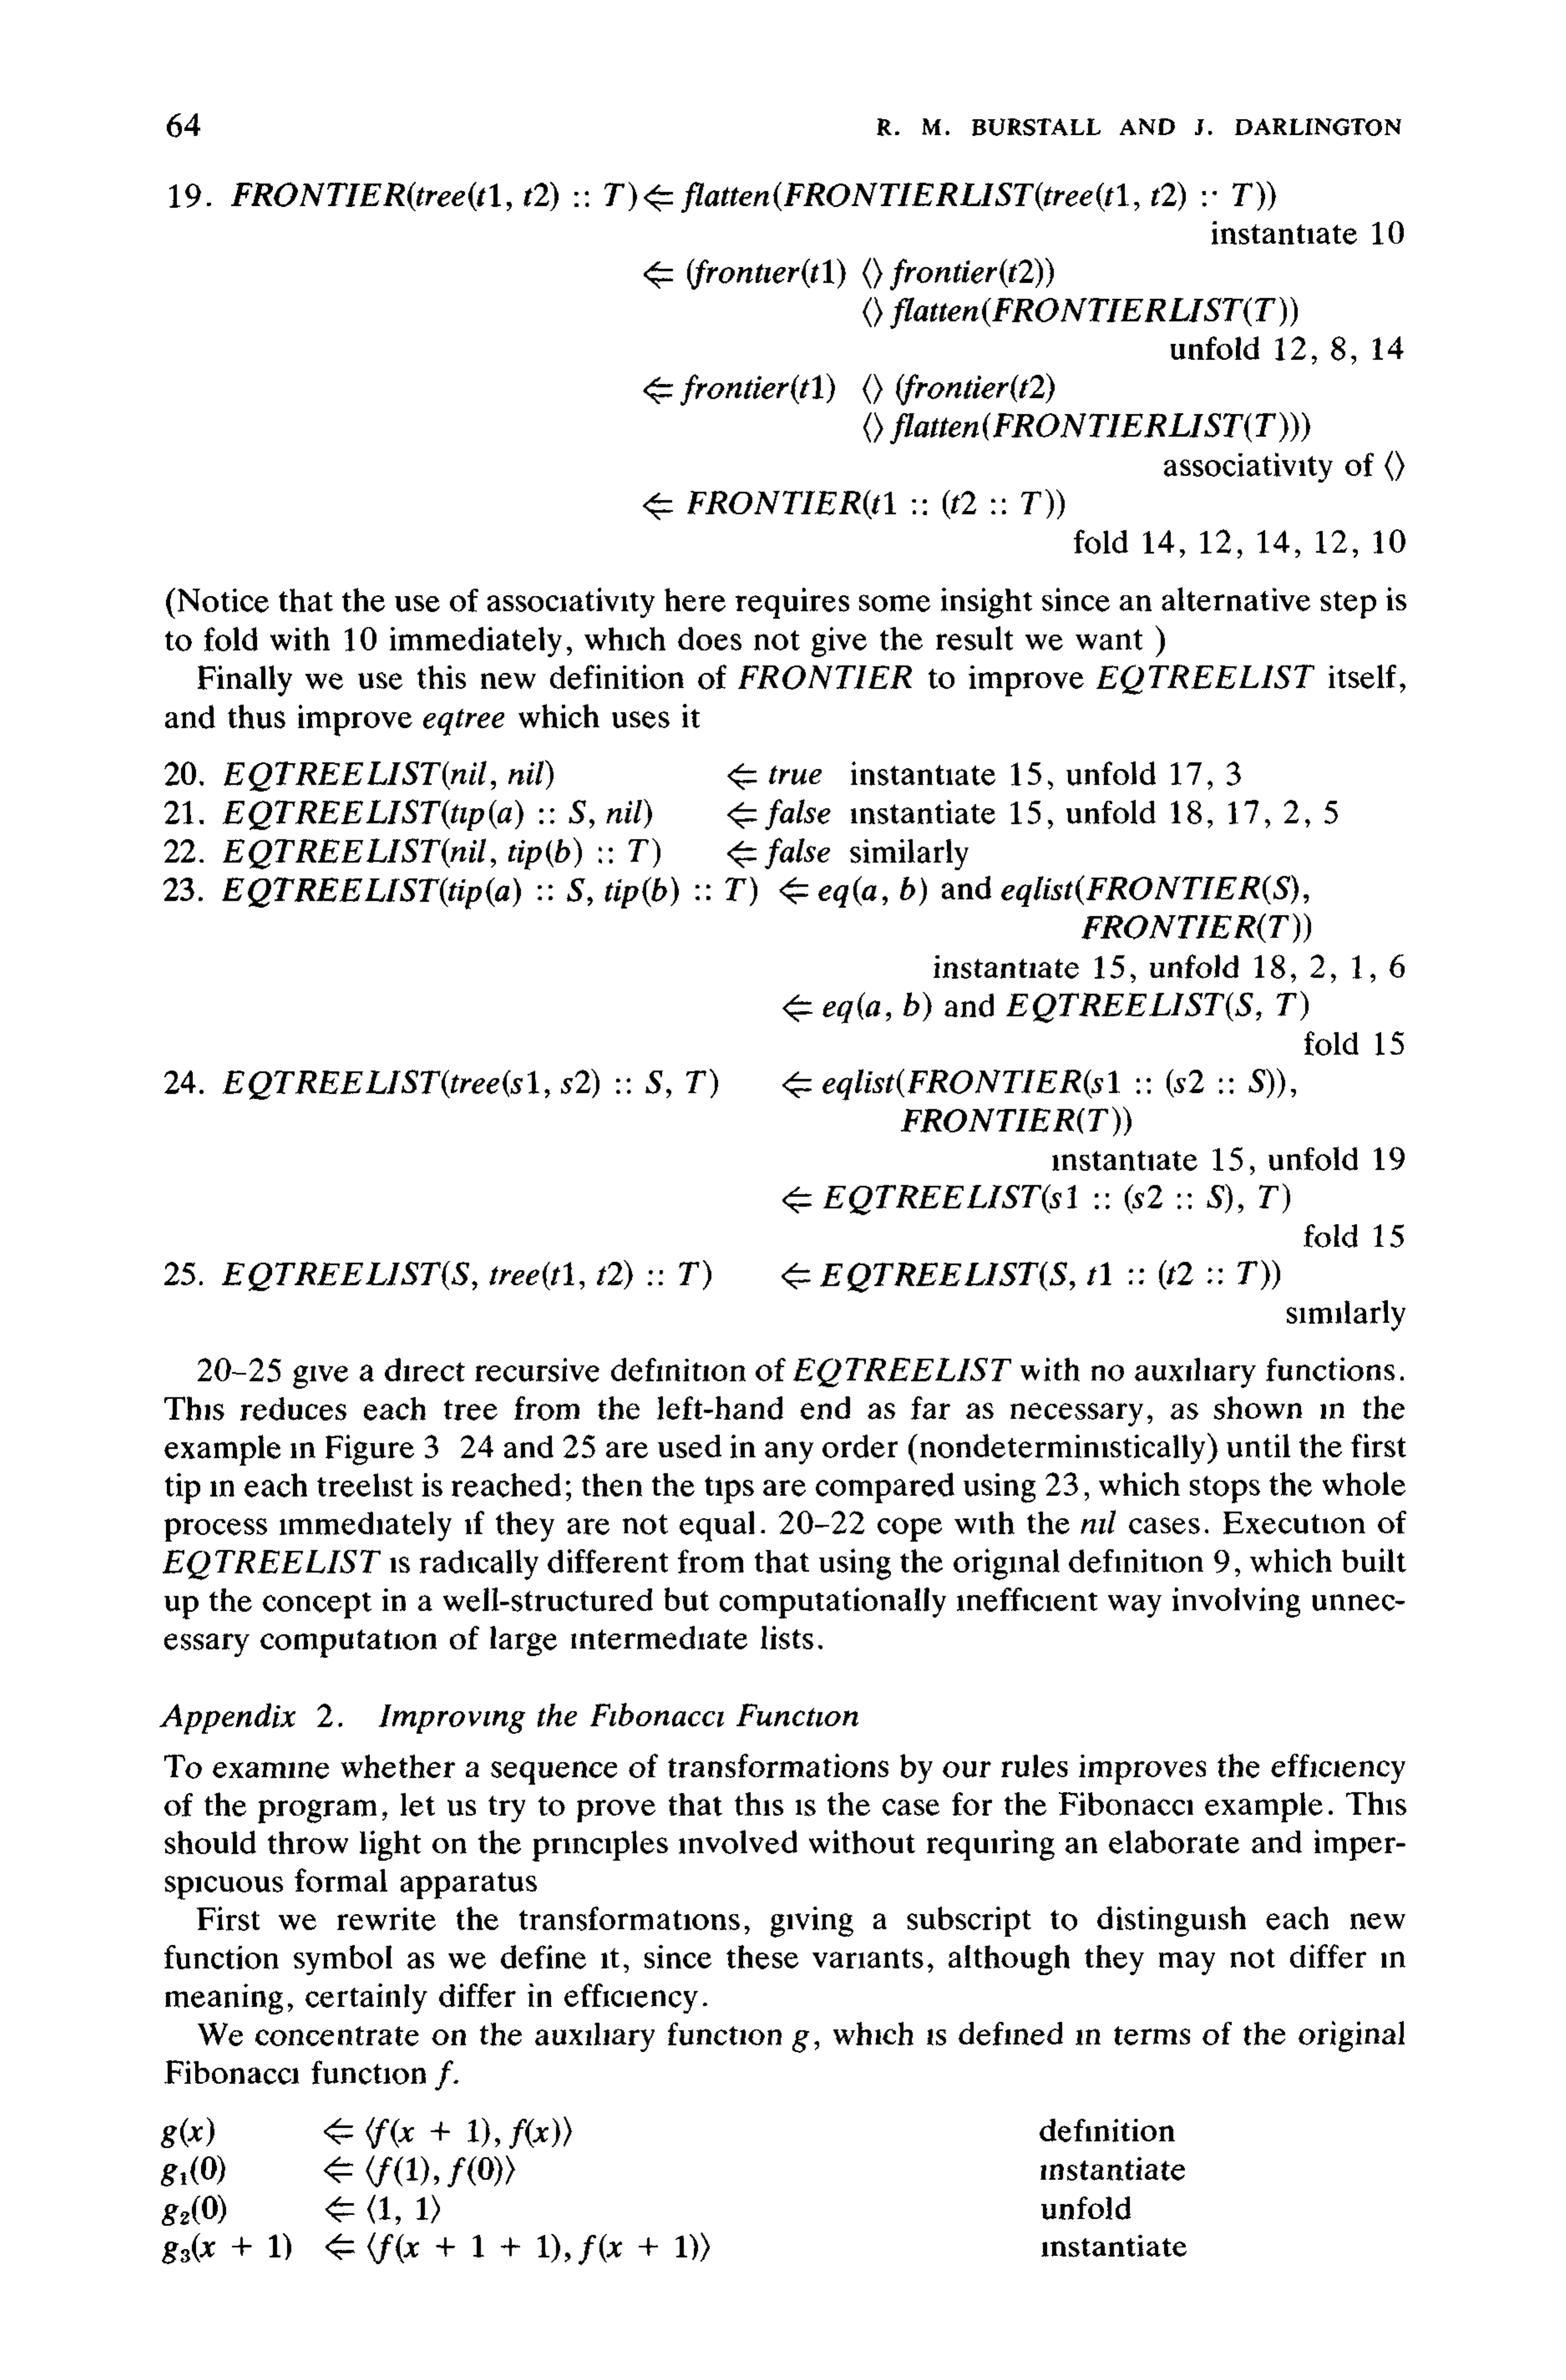maths: (224, 1068, 1285, 1101), (222, 1260, 1279, 1293), (231, 182, 1276, 213), (222, 875, 926, 909), (224, 799, 830, 832), (224, 837, 830, 870), (224, 760, 821, 792), (783, 1183, 1290, 1214), (863, 412, 1311, 444), (643, 489, 1064, 521), (643, 259, 1054, 290), (643, 374, 1054, 405), (890, 297, 1286, 329), (1007, 991, 1309, 1024), (1001, 875, 1299, 907), (325, 2231, 572, 2265), (1096, 664, 1314, 695), (900, 1106, 1131, 1136), (1082, 914, 1311, 944), (793, 1358, 1012, 1387), (163, 1550, 381, 1580), (323, 2116, 500, 2149), (783, 993, 932, 1024), (579, 2231, 710, 2265), (738, 666, 912, 690), (163, 2233, 292, 2265), (323, 2156, 439, 2188), (325, 2195, 440, 2224), (447, 2155, 516, 2188), (509, 2116, 572, 2149), (161, 2155, 225, 2186), (163, 2195, 225, 2226), (161, 2116, 215, 2148), (1384, 451, 1405, 481), (863, 297, 883, 327), (435, 2060, 453, 2090), (792, 2031, 809, 2053)
